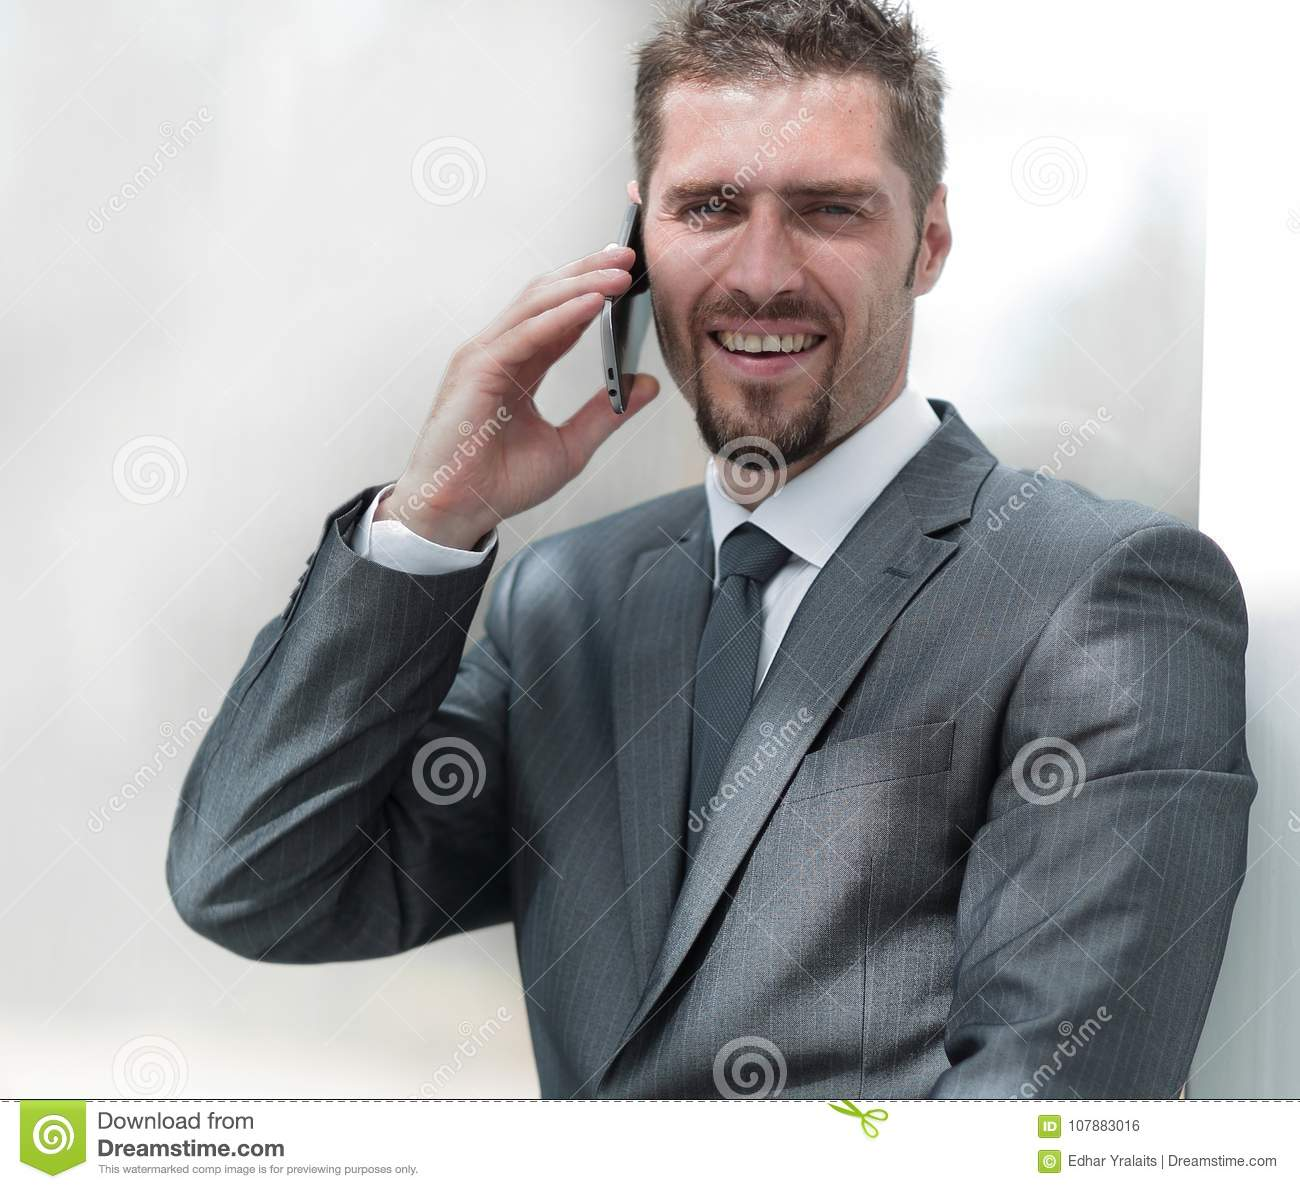phone: (595, 190, 657, 420)
talk: (414, 159, 904, 550)
